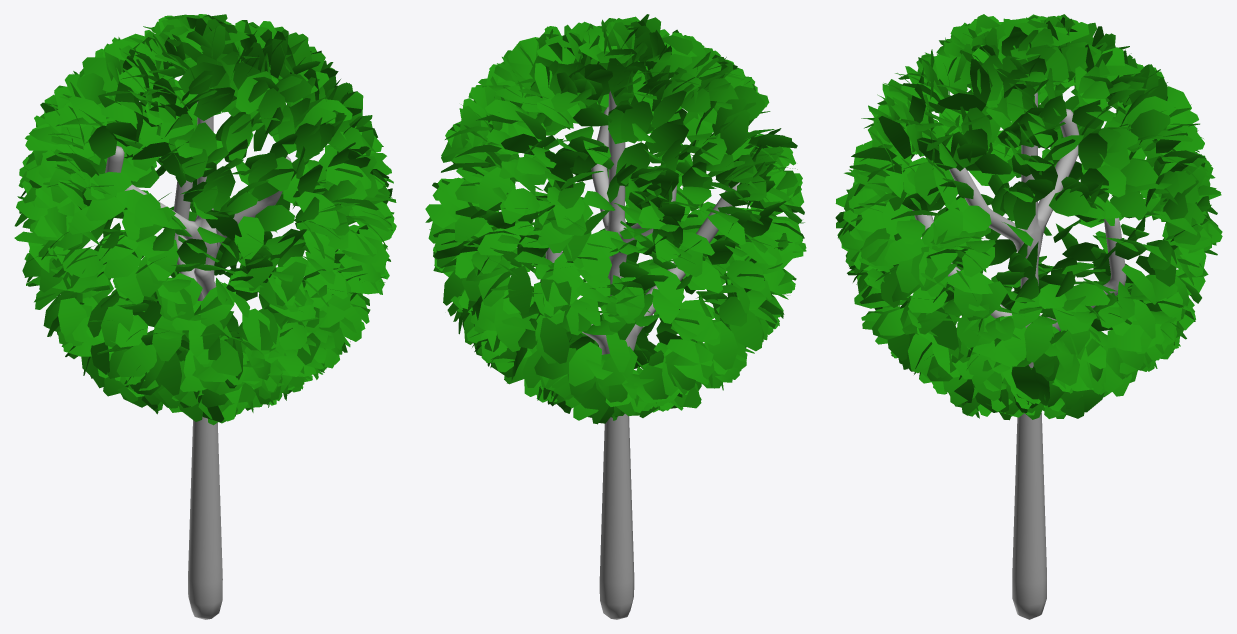
Rendered from tree.fbx.
The picture shows the model from 3 angles, left to right: view 1: azimuth 30°, elevation 25°; view 2: azimuth 150°, elevation 25°; view 3: azimuth 270°, elevation 25°; orthographic projection.
Parts seen in each view (by area): view 1: Vert, leaf.086, leaf.704, leaf.459, leaf.662, leaf.909, leaf.777, leaf.510, leaf.879, leaf.811, leaf.044, leaf.378 (+35 smaller); view 2: Vert, leaf.697, leaf.758, leaf.583, leaf.545, leaf.775, leaf.531, leaf.575, leaf.969, leaf.626, leaf.455, leaf.878 (+32 smaller); view 3: Vert, leaf.745, leaf.755, leaf.915, leaf.141, leaf.798, leaf.508, leaf.429, leaf.470, leaf.511, leaf.991, leaf.556 (+32 smaller).
Boxes of the visible parts, x1=… form: Vert: x1=105, y1=94, x2=290, y2=619; leaf.086: x1=116, y1=342, x2=156, y2=376; leaf.704: x1=234, y1=216, x2=264, y2=259; leaf.459: x1=101, y1=298, x2=133, y2=347; leaf.662: x1=62, y1=247, x2=103, y2=277; leaf.909: x1=83, y1=172, x2=132, y2=200; leaf.777: x1=296, y1=191, x2=339, y2=228; leaf.510: x1=58, y1=297, x2=86, y2=346; leaf.879: x1=203, y1=166, x2=235, y2=209; leaf.811: x1=152, y1=316, x2=182, y2=361; leaf.044: x1=193, y1=87, x2=234, y2=120; leaf.378: x1=255, y1=205, x2=294, y2=231; Vert: x1=545, y1=91, x2=739, y2=619; leaf.697: x1=540, y1=317, x2=569, y2=363; leaf.758: x1=569, y1=341, x2=601, y2=386; leaf.583: x1=507, y1=265, x2=532, y2=314; leaf.545: x1=621, y1=101, x2=653, y2=143; leaf.775: x1=477, y1=167, x2=509, y2=210; leaf.531: x1=707, y1=321, x2=738, y2=369; leaf.575: x1=720, y1=110, x2=749, y2=154; leaf.969: x1=645, y1=123, x2=688, y2=153; leaf.626: x1=726, y1=260, x2=765, y2=291; leaf.455: x1=494, y1=305, x2=525, y2=351; leaf.878: x1=729, y1=310, x2=762, y2=351; Vert: x1=912, y1=92, x2=1126, y2=619; leaf.745: x1=1024, y1=316, x2=1052, y2=362; leaf.755: x1=1078, y1=133, x2=1107, y2=169; leaf.915: x1=1130, y1=109, x2=1170, y2=140; leaf.141: x1=1049, y1=188, x2=1090, y2=216; leaf.798: x1=1107, y1=325, x2=1155, y2=351; leaf.508: x1=1120, y1=159, x2=1158, y2=186; leaf.429: x1=932, y1=207, x2=962, y2=251; leaf.470: x1=947, y1=269, x2=993, y2=294; leaf.511: x1=1064, y1=283, x2=1109, y2=305; leaf.991: x1=914, y1=160, x2=941, y2=204; leaf.556: x1=1109, y1=191, x2=1147, y2=217.
Size of the model in its own units: 347 by 598 by 353.
2 materials, 2 textured.
